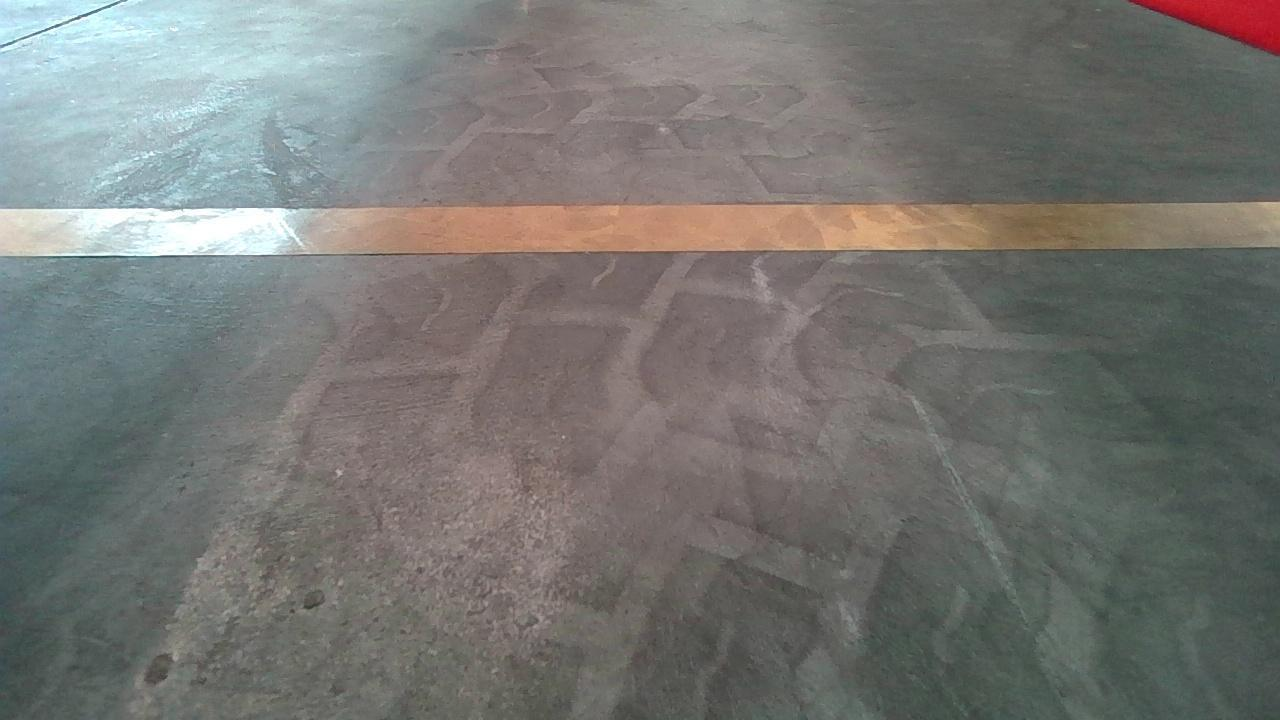yellow_line: (14, 193, 1278, 258)
